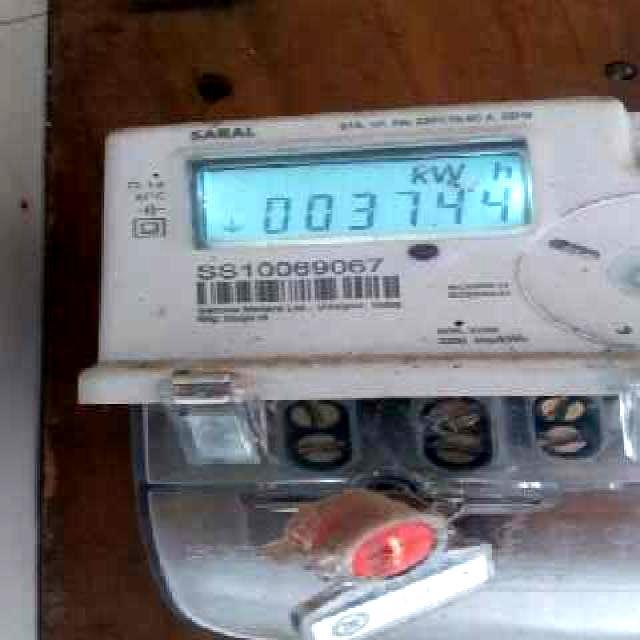LCD: (186, 150, 552, 247)
